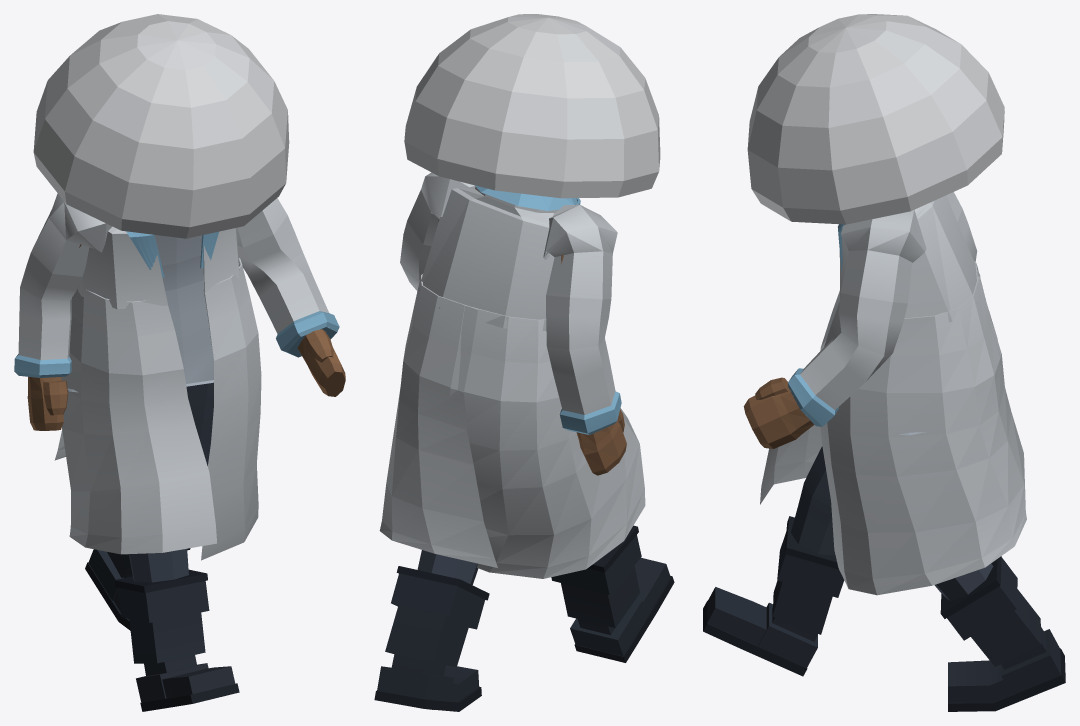
File: city-commuter-52a53f__walk4.glb
The picture shows the model from 3 angles, left to right: view 1: azimuth 30°, elevation 25°; view 2: azimuth 150°, elevation 25°; view 3: azimuth 270°, elevation 25°; orthographic projection.
Visible parts, largest first — view 1: city-commuter-52a53f__walk4; view 2: city-commuter-52a53f__walk4; view 3: city-commuter-52a53f__walk4.
Boxes of the visible parts, x1=… form: city-commuter-52a53f__walk4: x1=14, y1=14, x2=345, y2=711; city-commuter-52a53f__walk4: x1=374, y1=14, x2=674, y2=711; city-commuter-52a53f__walk4: x1=703, y1=14, x2=1065, y2=711.
Bounding box in the file's own units: 0.7587 × 1.82 × 0.9128.
